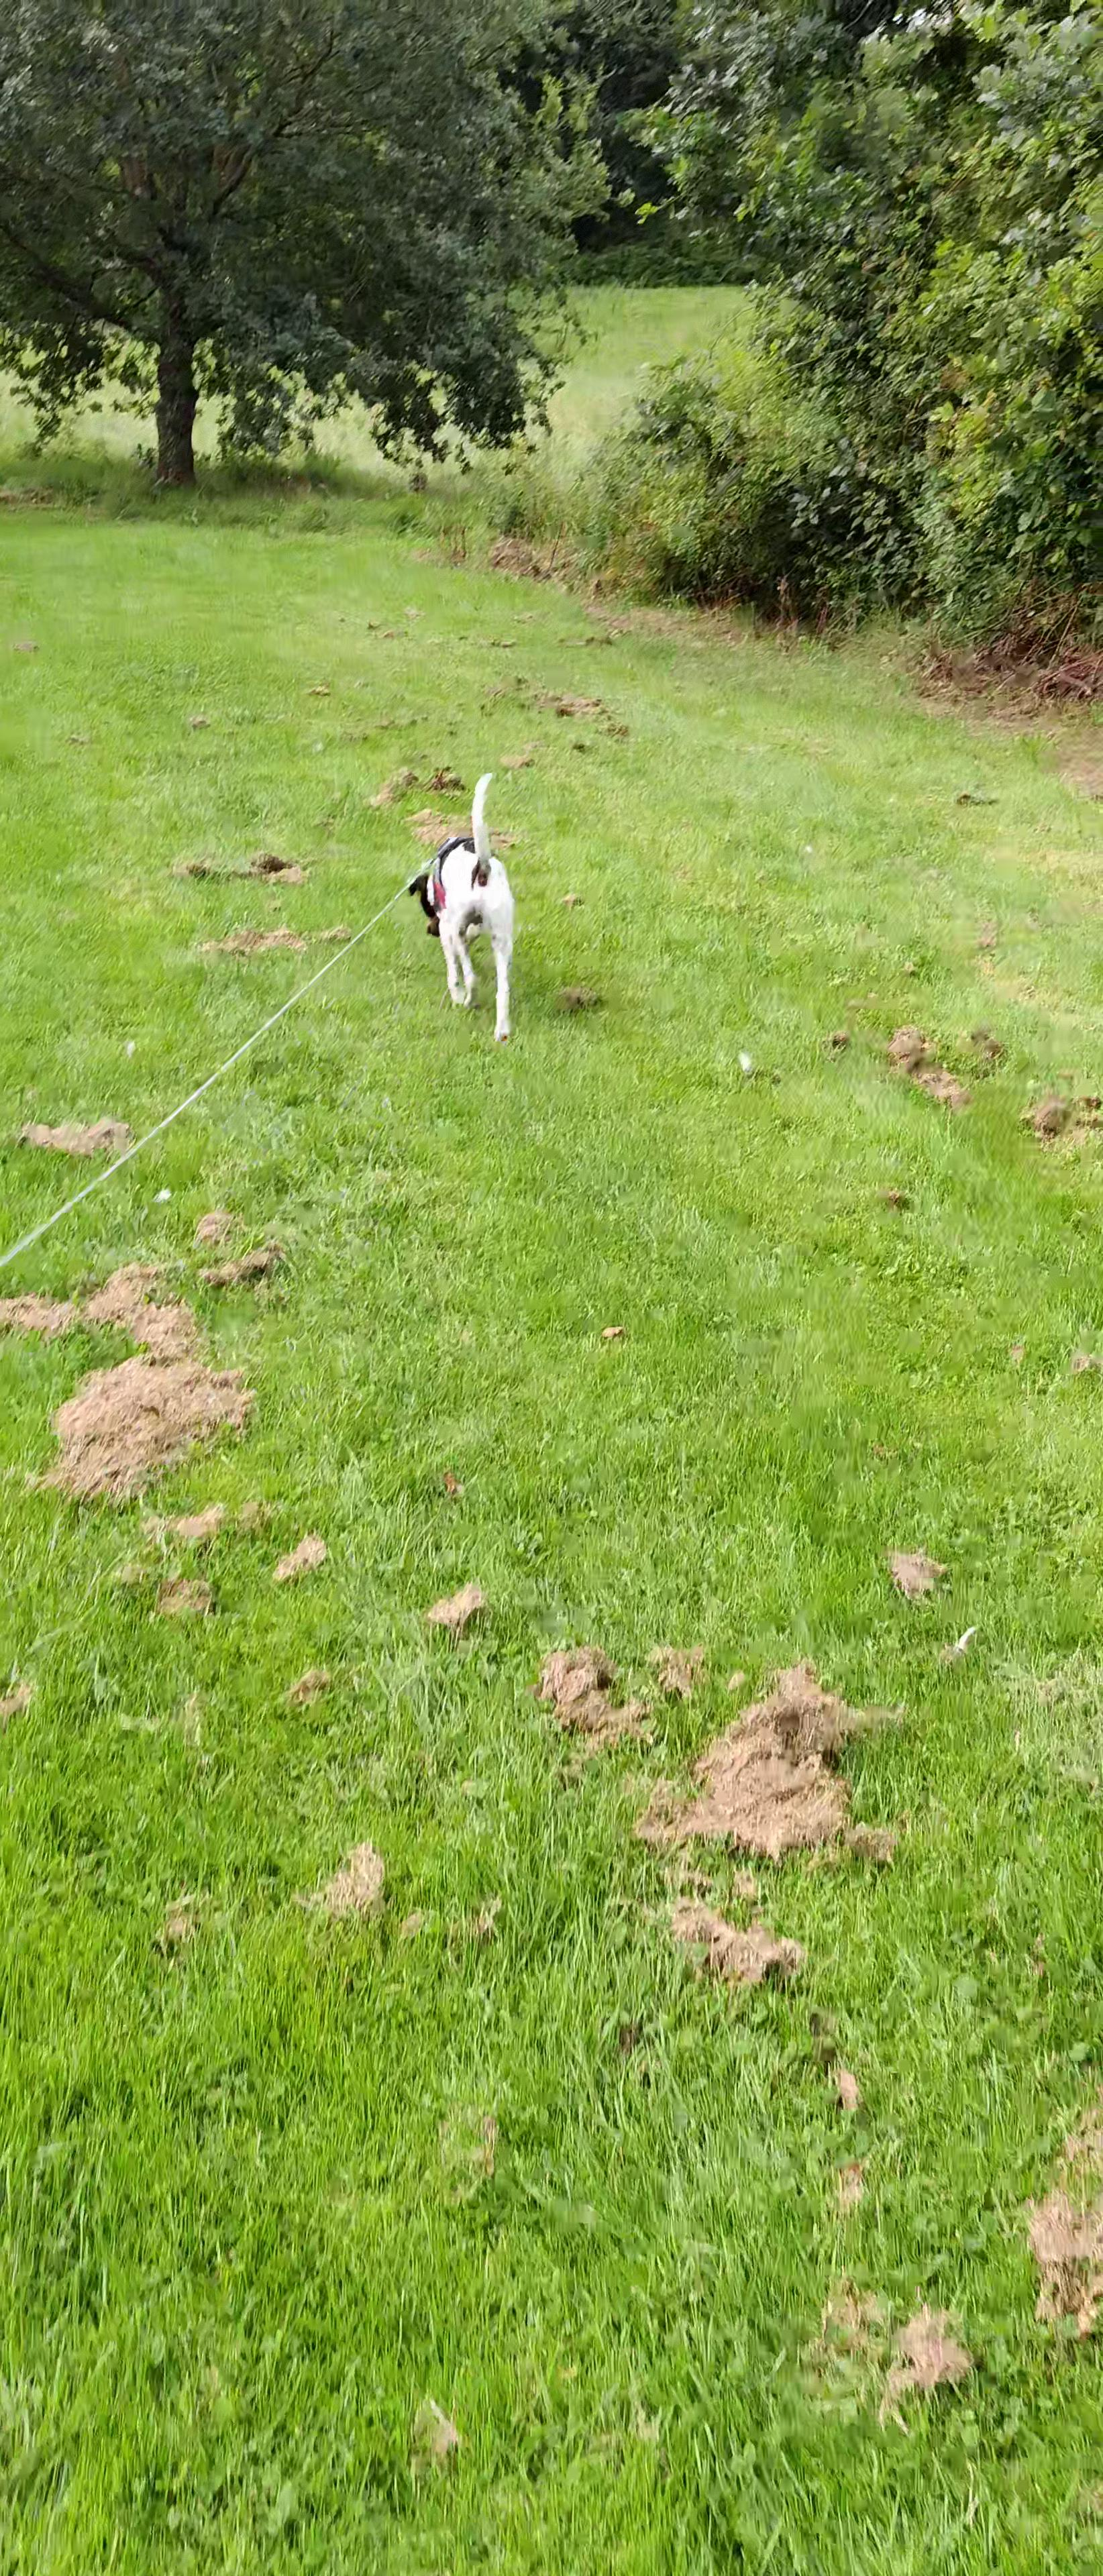Dog: (401, 769, 534, 1056)
